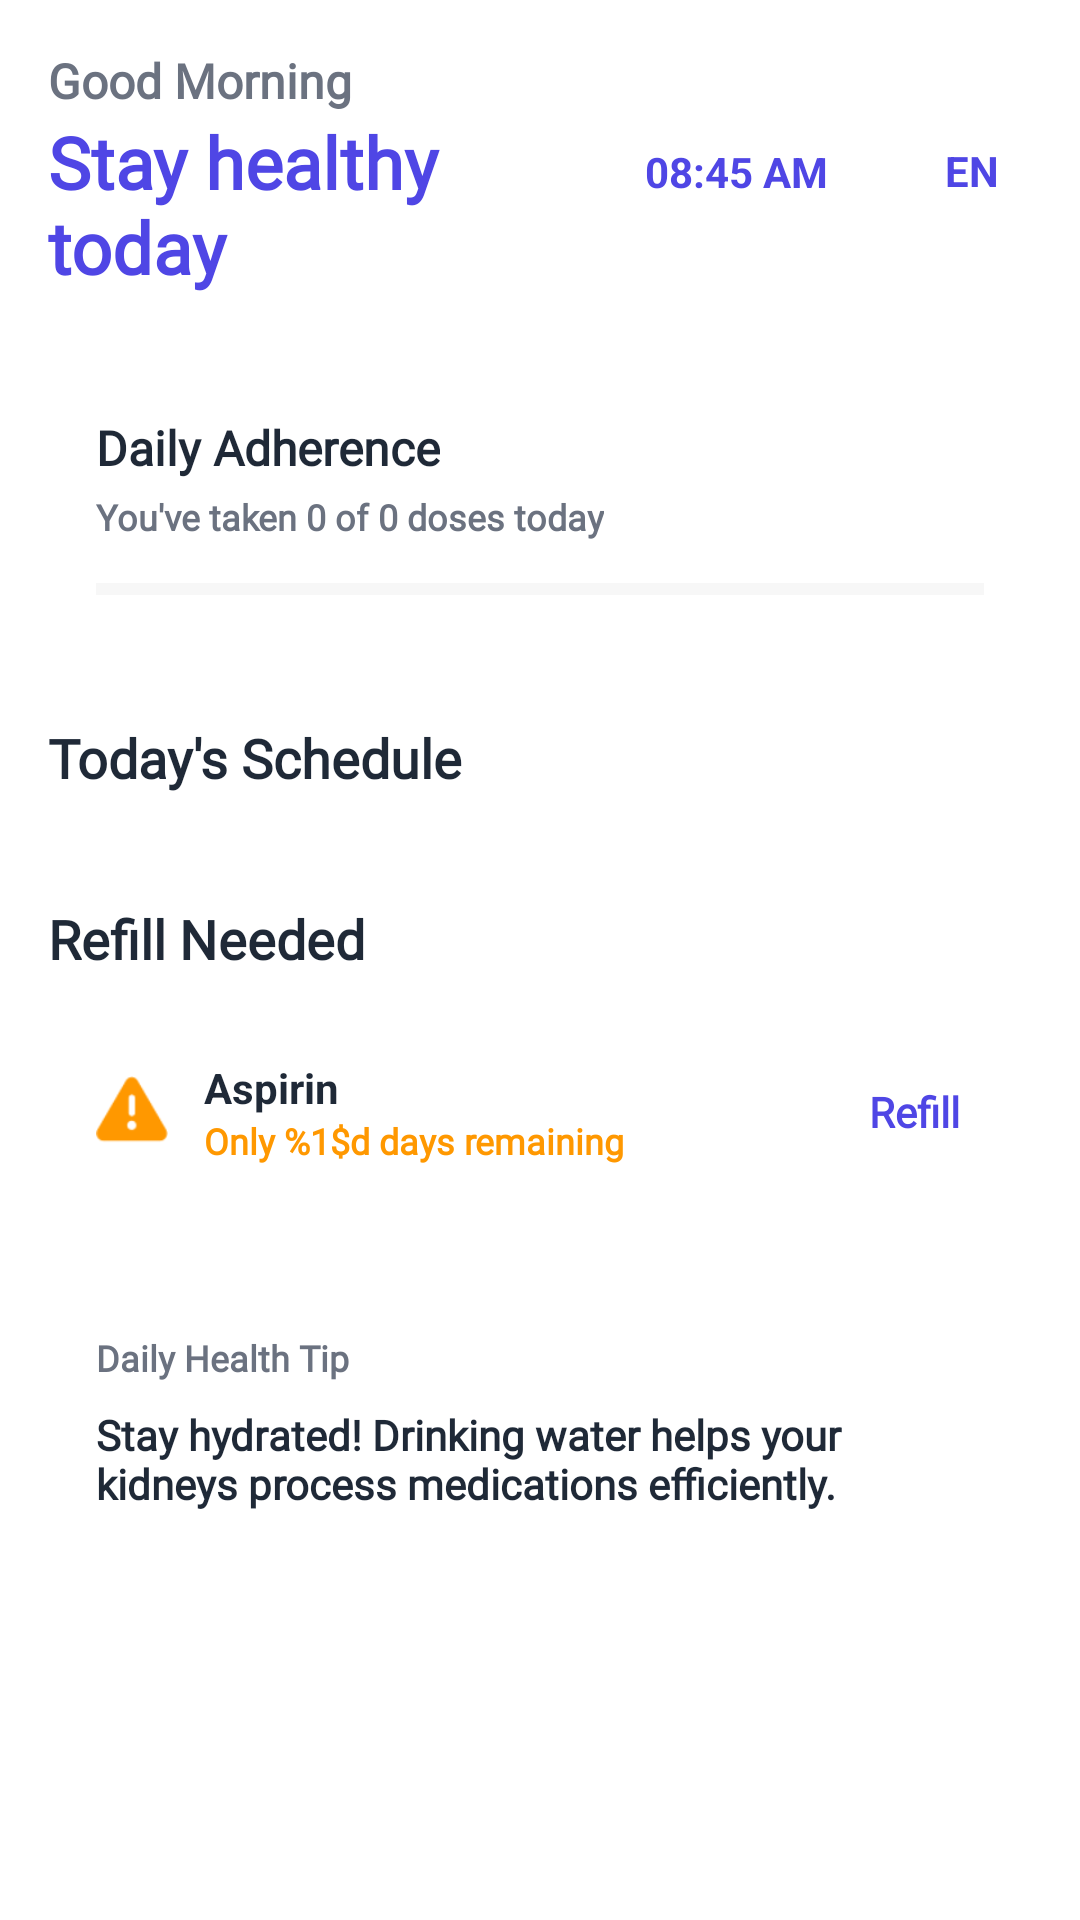

Icons on this 1080px×1920px Android screen, each with its box as (x1, y1, x2, y2):
alert: (96, 1076, 168, 1142)
